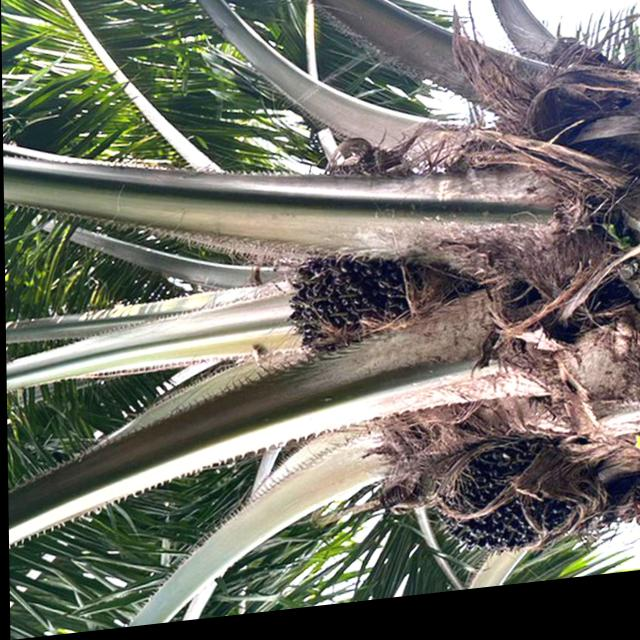ripe: (273, 240, 423, 383)
